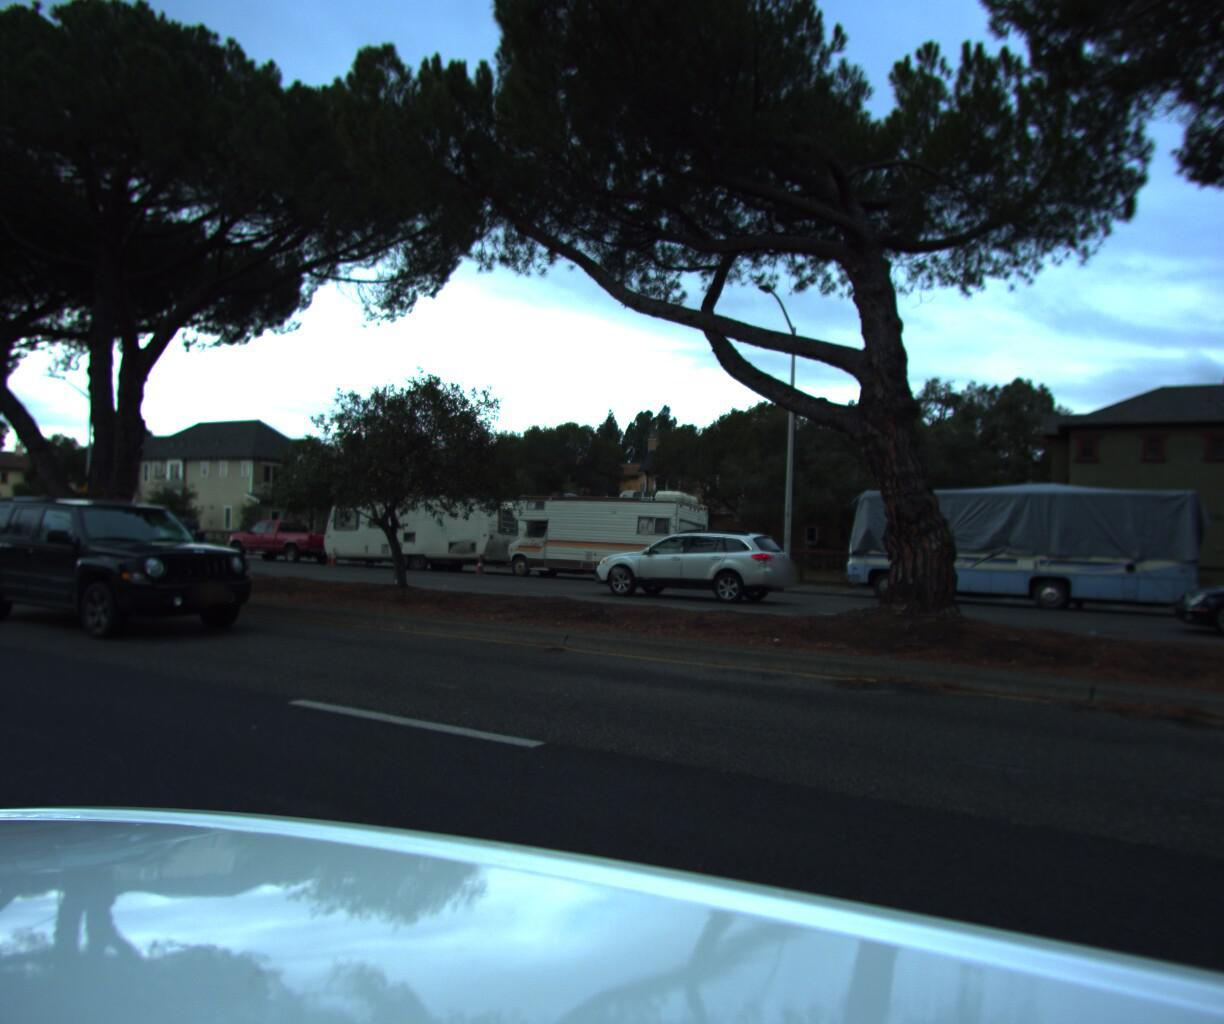car: (0, 487, 283, 650), (588, 521, 806, 604), (217, 511, 350, 561), (1171, 551, 1224, 663), (0, 488, 86, 547), (0, 510, 76, 553), (135, 519, 216, 554)
other_vehicle: (829, 473, 1209, 617), (495, 482, 721, 582), (313, 485, 535, 573)
